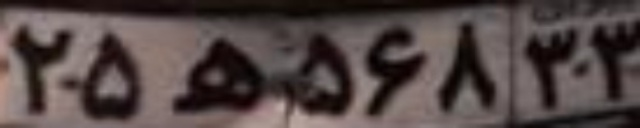2: (10, 24, 73, 114)
3: (521, 28, 582, 109), (589, 20, 638, 101)
5: (76, 32, 142, 118), (289, 30, 350, 114)
6: (360, 25, 428, 116)
8: (433, 22, 498, 111)
he: (163, 37, 271, 114)
